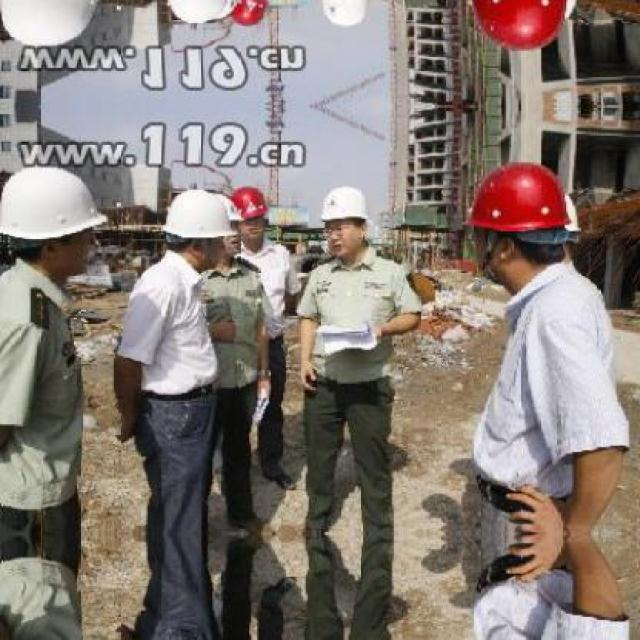helmet: (464, 146, 579, 290), (1, 161, 101, 282), (463, 0, 580, 66), (161, 178, 227, 274), (314, 180, 375, 268), (0, 0, 101, 52), (231, 184, 277, 249), (160, 0, 227, 35), (314, 0, 377, 32), (230, 0, 278, 29)
